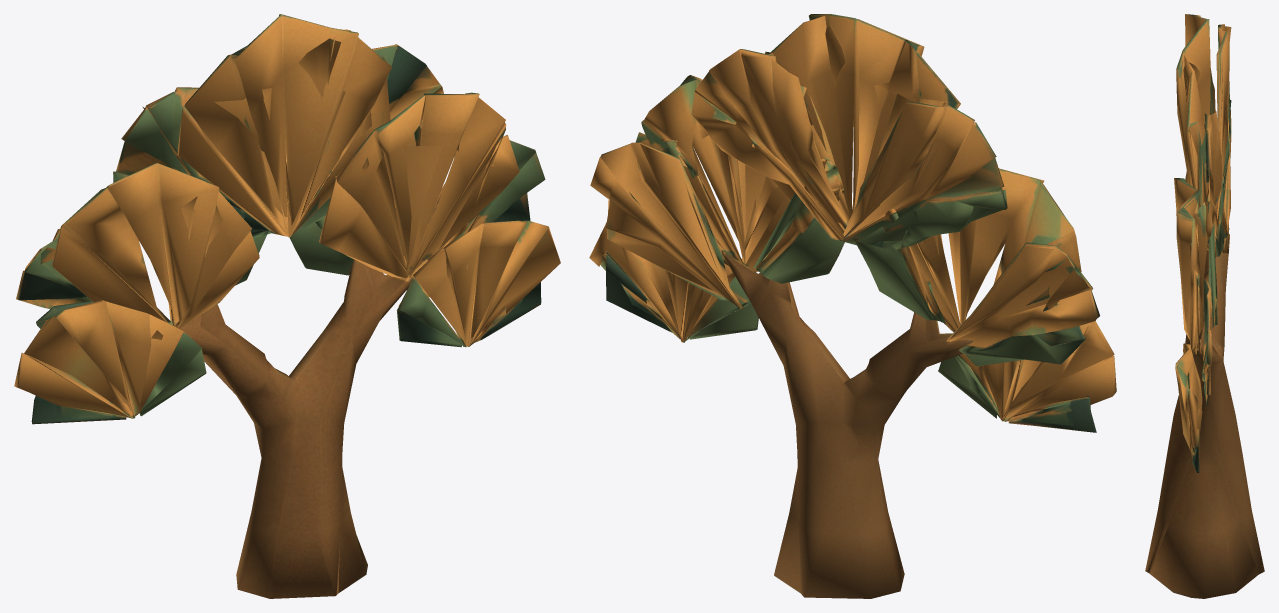
File: AW-VAR-TREE-007-v0.2.glb
3 renders of one model, left to right at view 1: azimuth 30°, elevation 25°; view 2: azimuth 150°, elevation 25°; view 3: azimuth 270°, elevation 25°, orthographic. The views are drawn at different scales.
Parts seen in each view (by area): view 1: AW-VAR-TREE-007_meter_ground_pivot; view 2: AW-VAR-TREE-007_meter_ground_pivot; view 3: AW-VAR-TREE-007_meter_ground_pivot.
Boxes of the visible parts, x1,y1,x2,y2 form: AW-VAR-TREE-007_meter_ground_pivot: [14, 14, 560, 598]; AW-VAR-TREE-007_meter_ground_pivot: [589, 14, 1116, 598]; AW-VAR-TREE-007_meter_ground_pivot: [1145, 14, 1264, 598].
Size of the model in its own units: 3.77 by 3.8 by 0.76.
1 material, 1 textured.
